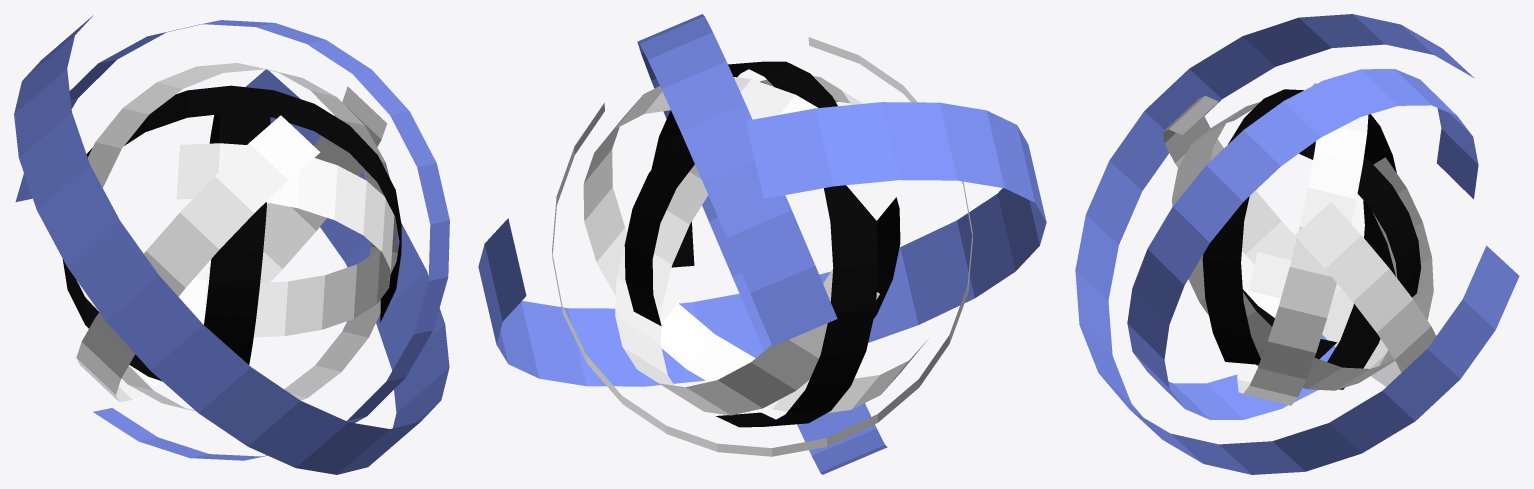
The model's file is pet_fire_weaken_1.obj.
3 views of the same model, side by side, from view 1: azimuth 30°, elevation 25°; view 2: azimuth 150°, elevation 25°; view 3: azimuth 270°, elevation 25° (orthographic). The views are drawn at different scales.
Visible parts, largest first — view 1: Plane10, Plane11, Plane07, Plane06, Plane08, Plane09, Plane12; view 2: Plane10, Plane06, Plane09, Plane08, Plane07, Plane12, Plane11; view 3: Plane10, Plane06, Plane11, Plane08, Plane09, Plane07, Plane12.
Part boxes in pixels (<box>): Plane10: <box>14,15,449,474</box>; Plane11: <box>76,86,386,402</box>; Plane07: <box>76,143,394,337</box>; Plane06: <box>15,20,449,460</box>; Plane08: <box>88,63,397,411</box>; Plane09: <box>62,85,401,381</box>; Plane12: <box>204,113,270,364</box>; Plane10: <box>478,102,1046,386</box>; Plane06: <box>637,14,887,474</box>; Plane09: <box>651,61,878,427</box>; Plane08: <box>583,77,928,413</box>; Plane07: <box>615,76,879,415</box>; Plane12: <box>624,135,900,326</box>; Plane11: <box>552,37,972,456</box>; Plane10: <box>1075,14,1519,474</box>; Plane06: <box>1127,69,1478,419</box>; Plane11: <box>1162,96,1436,386</box>; Plane08: <box>1237,83,1368,405</box>; Plane09: <box>1202,89,1396,389</box>; Plane07: <box>1172,102,1433,390</box>; Plane12: <box>1242,141,1420,359</box>.
Bounding box in the file's own units: 235 × 211 × 236.
